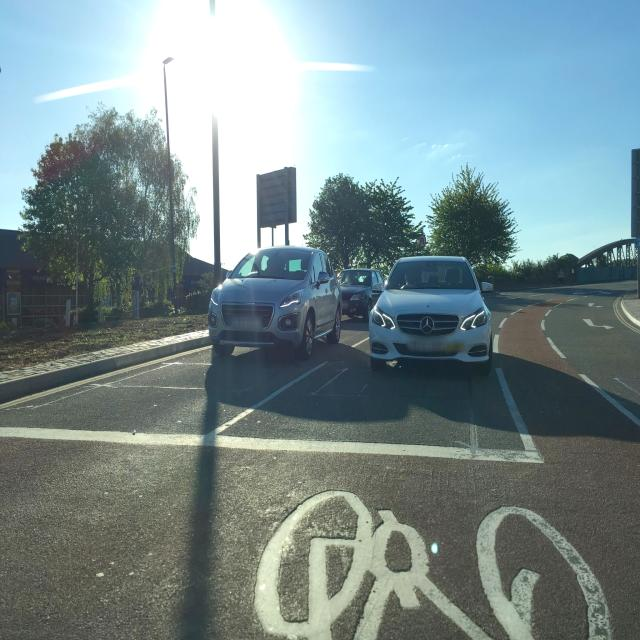car: (208, 244, 342, 361), (368, 254, 494, 376), (337, 266, 384, 320), (480, 280, 494, 294)
